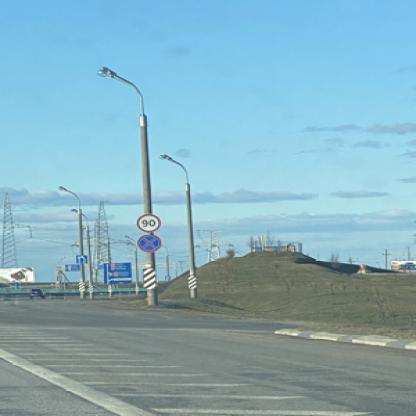speedlimit: (134, 213, 160, 231)
